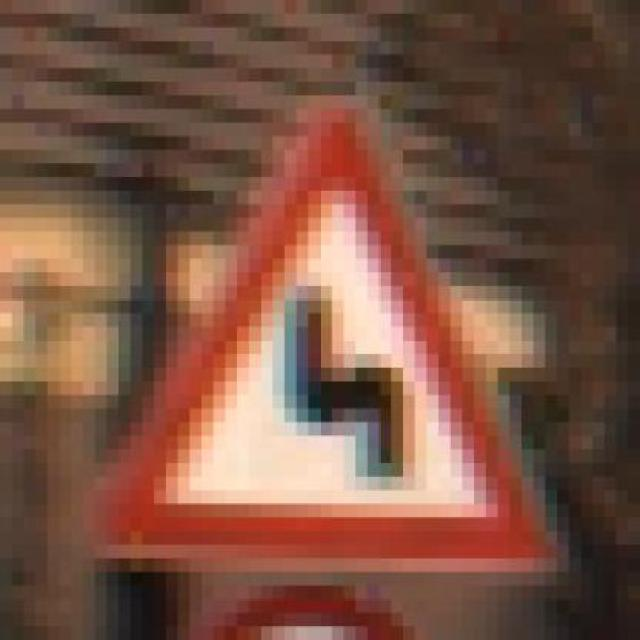Left Zig Zag Traffic: (83, 82, 569, 572)
